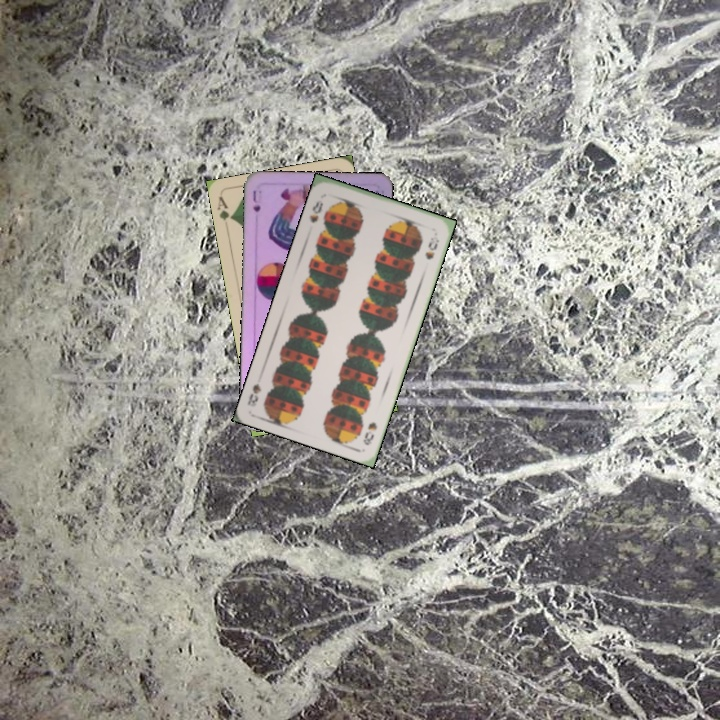GA: (213, 193, 236, 223)
S8: (359, 418, 380, 448), (305, 196, 326, 225)
SU: (249, 186, 265, 215)
